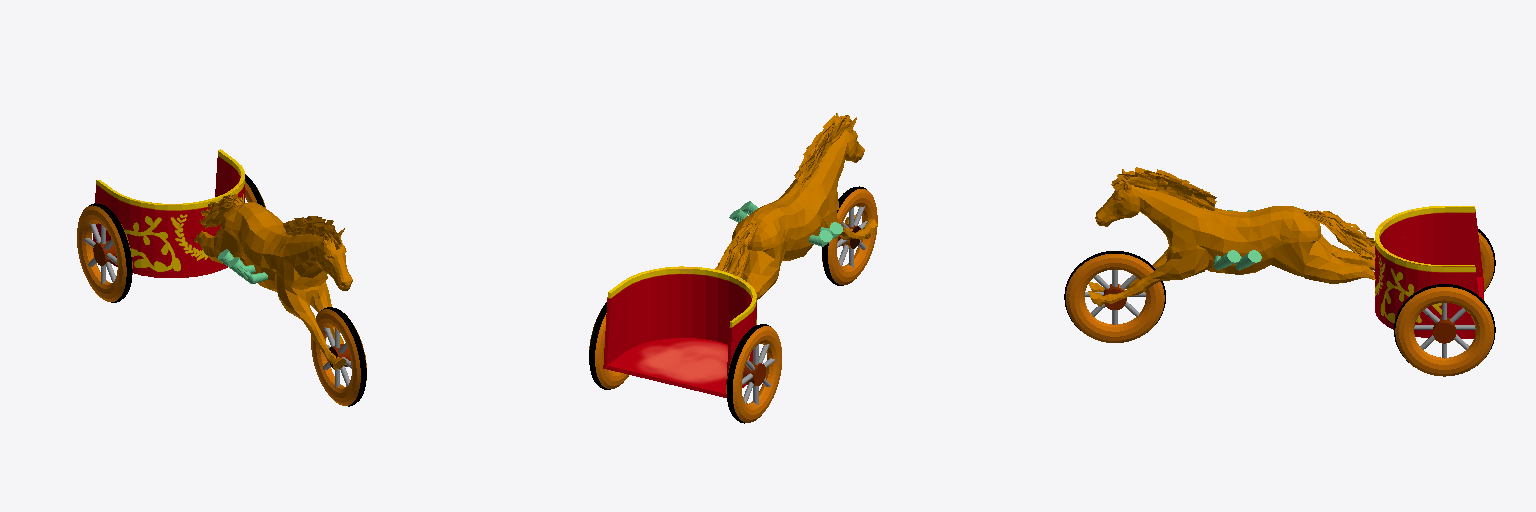
The picture shows the model from 3 angles: view 1: azimuth 30°, elevation 25°; view 2: azimuth 150°, elevation 25°; view 3: azimuth 270°, elevation 25°; orthographic projection.
Parts seen in each view (by area): view 1: Horse, Chassis, rightWheel, frontWheel; view 2: Chassis, Horse, rightWheel, frontWheel, leftWheel; view 3: Horse, Chassis, leftWheel, frontWheel, rightWheel.
Part boxes in pixels (x1,y1,x2,y2): Horse: (194,194,365,369); Chassis: (93,149,244,277); rightWheel: (77,203,132,302); frontWheel: (311,307,366,406); Chassis: (603,266,756,397); Horse: (715,113,877,299); rightWheel: (726,324,781,423); frontWheel: (822,186,877,285); leftWheel: (589,302,628,389); Horse: (1088,167,1375,306); Chassis: (1375,206,1483,338); leftWheel: (1394,284,1495,376); frontWheel: (1064,251,1165,342); rightWheel: (1478,229,1495,291).
Size of the model in its own units: 0.6345 by 0.7055 by 1.59.
4 materials, 2 textured.